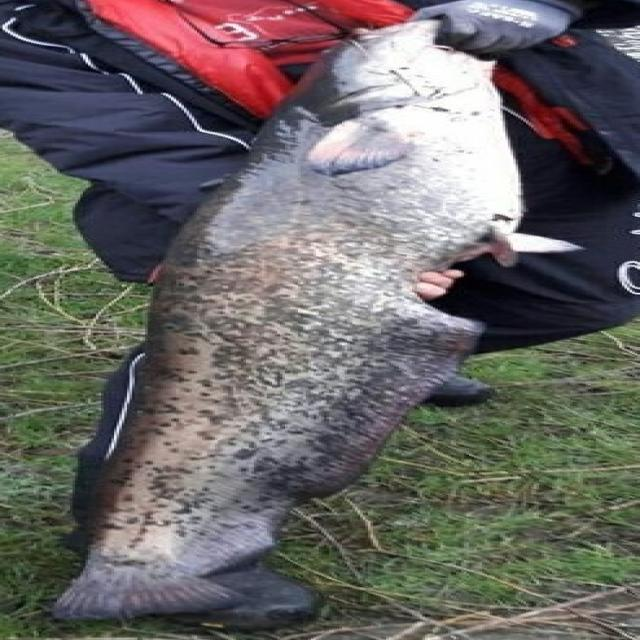Catfish: (45, 2, 616, 640)
